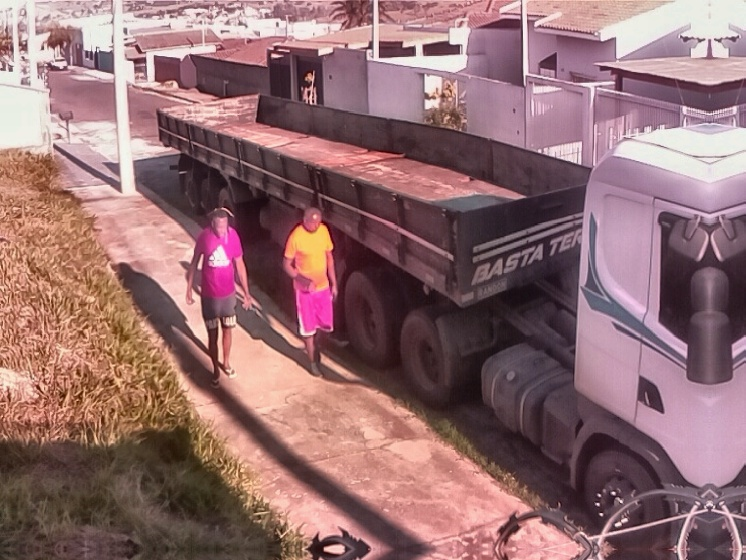person: (183, 205, 257, 389), (280, 205, 342, 381)
